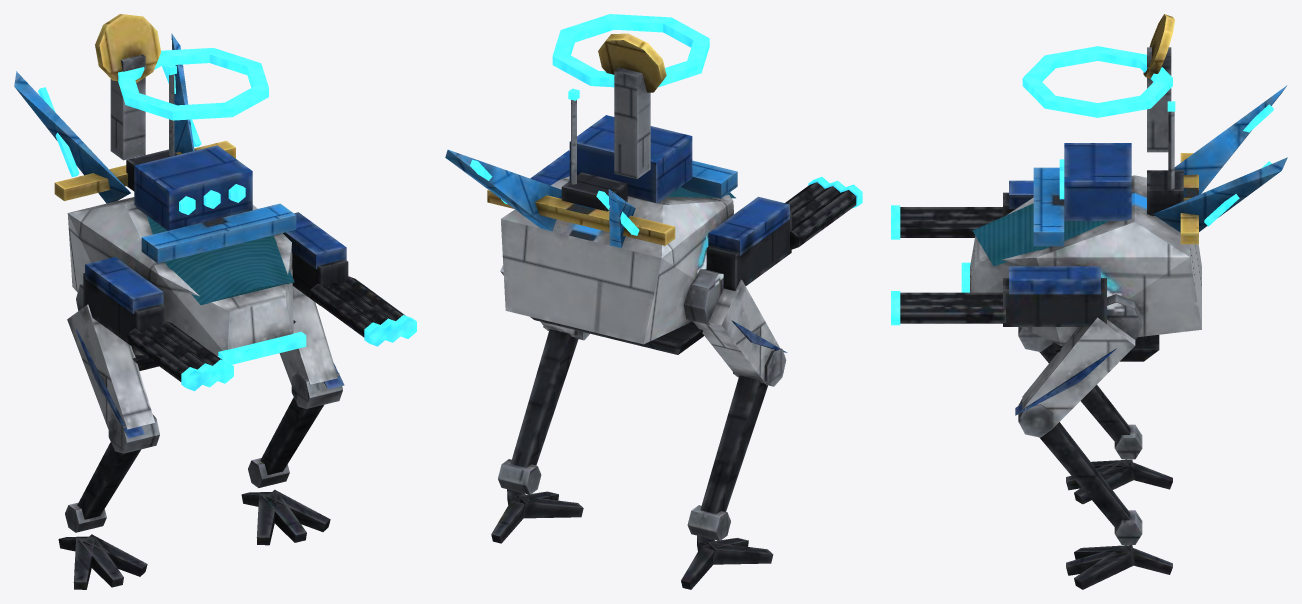
File: u_ranger4_w.glb
3 views of the same model, side by side, from view 1: azimuth 30°, elevation 25°; view 2: azimuth 150°, elevation 25°; view 3: azimuth 270°, elevation 25° (orthographic). The views are drawn at different scales.
Parts seen in each view (by area): view 1: u_ranger4_w; view 2: u_ranger4_w; view 3: u_ranger4_w.
Boxes of the visible parts, left/top/right/bottom form: u_ranger4_w: left=14, top=14, right=416, bottom=589; u_ranger4_w: left=445, top=14, right=862, bottom=589; u_ranger4_w: left=891, top=14, right=1287, bottom=589.
Size of the model in its own units: 1.14 by 2.21 by 1.6.
Materials: 1 (1 with a texture image).
